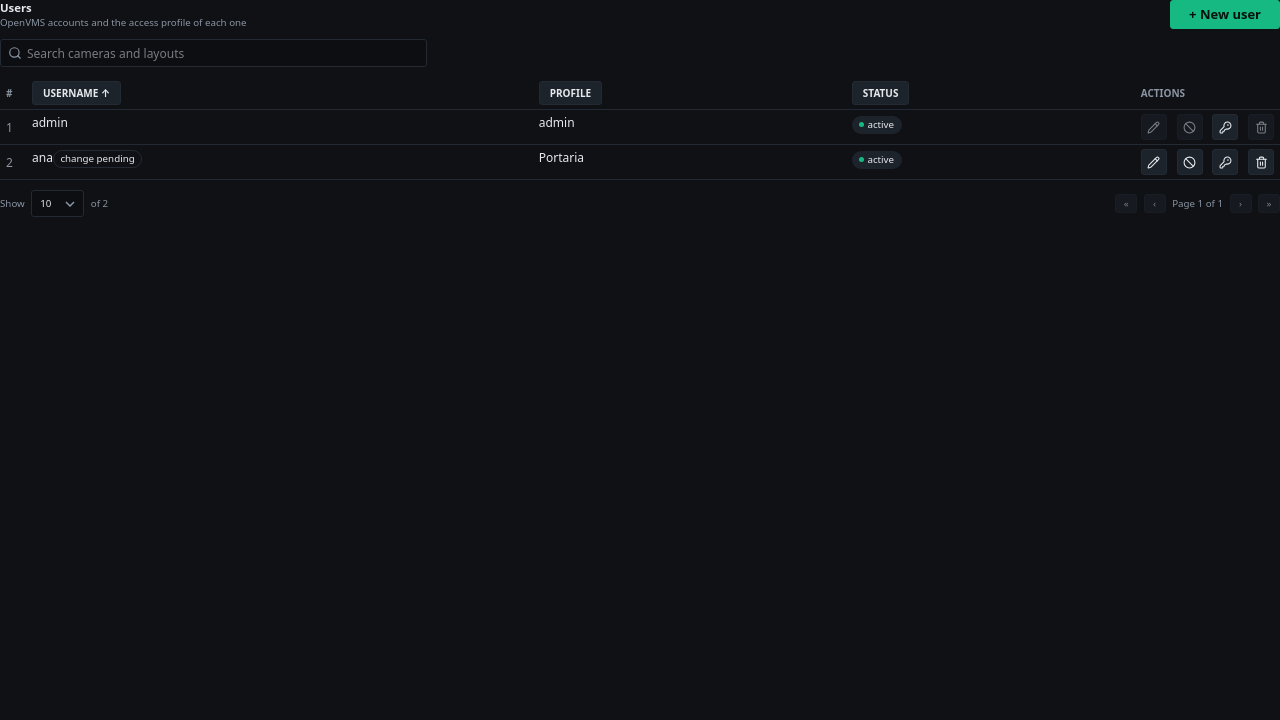
UsersTable (spec 2026-10-18 4.3; server-side since 2026-10-20 §5) › the server 400 shows up, without the client reimplementing the policy
Expected: the text "ana" is shown, left=32, top=149, right=53, bottom=166
Click the button "+ New user": (1225, 15) left=1170, top=0, right=1279, bottom=29
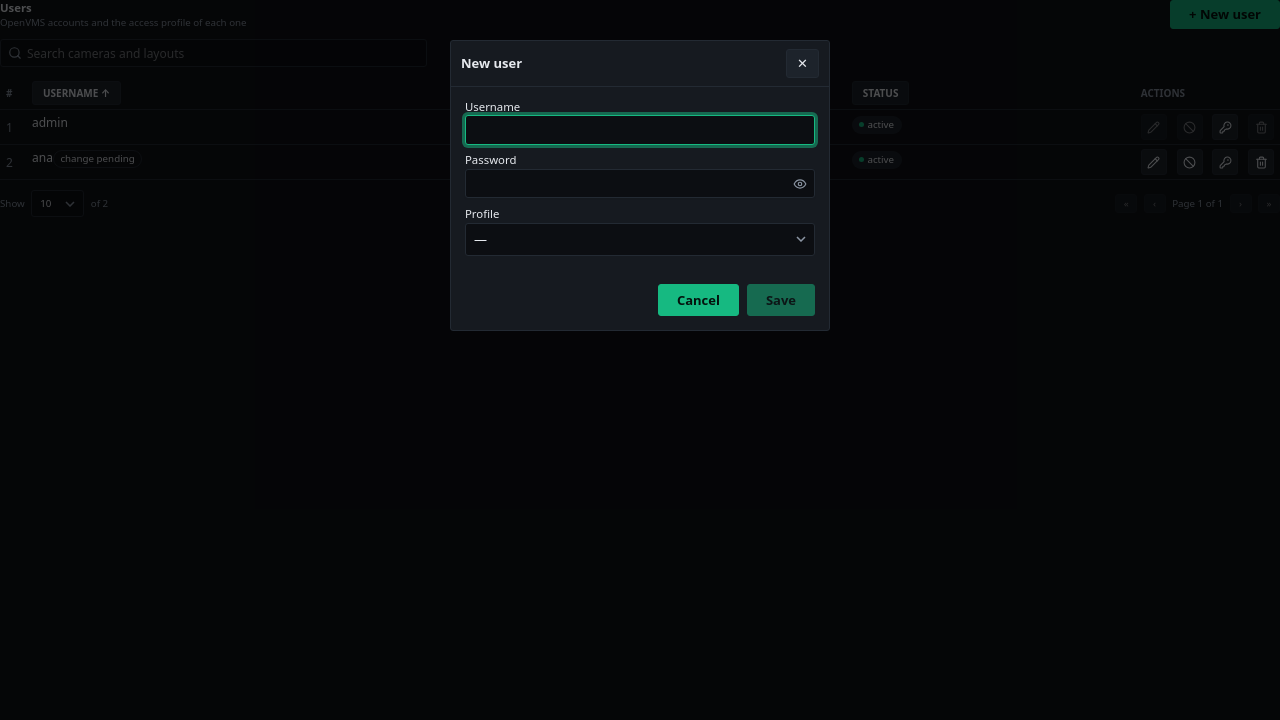
In the field labelled "Username": (640, 130) left=465, top=116, right=815, bottom=145, type "bia"
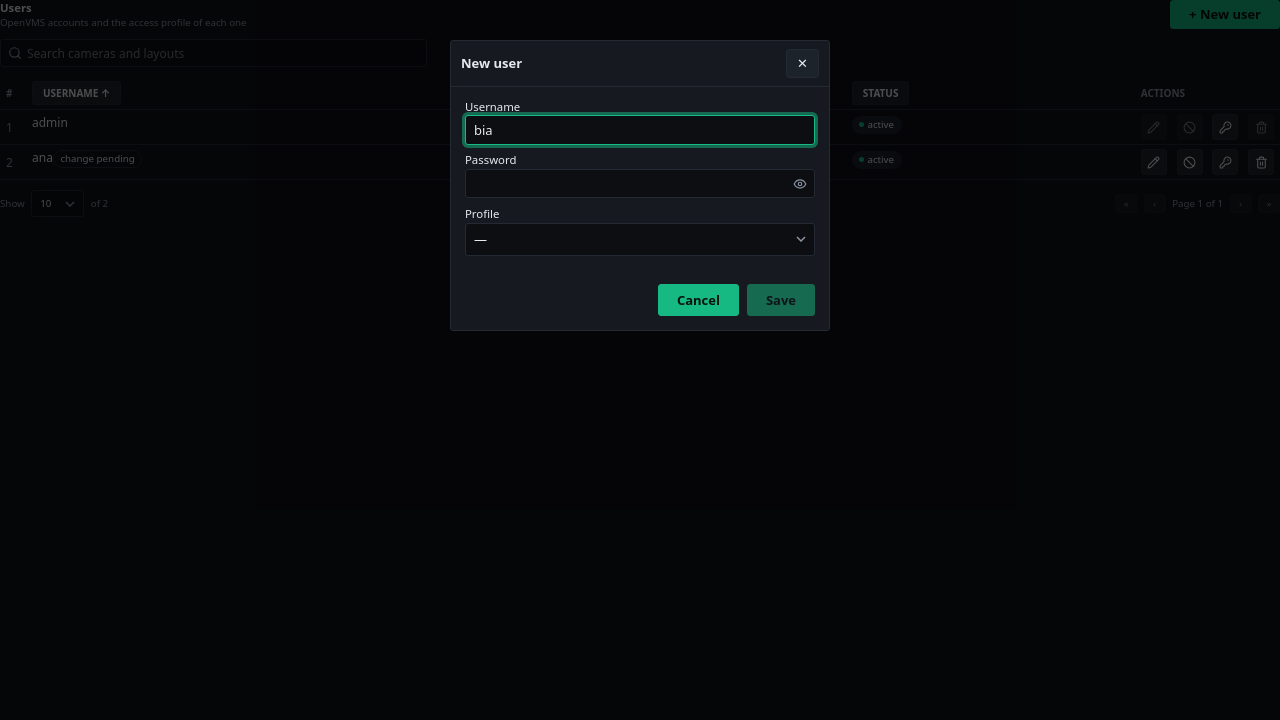
In the password field labelled "Password": (640, 184) left=465, top=169, right=815, bottom=198, type "short"
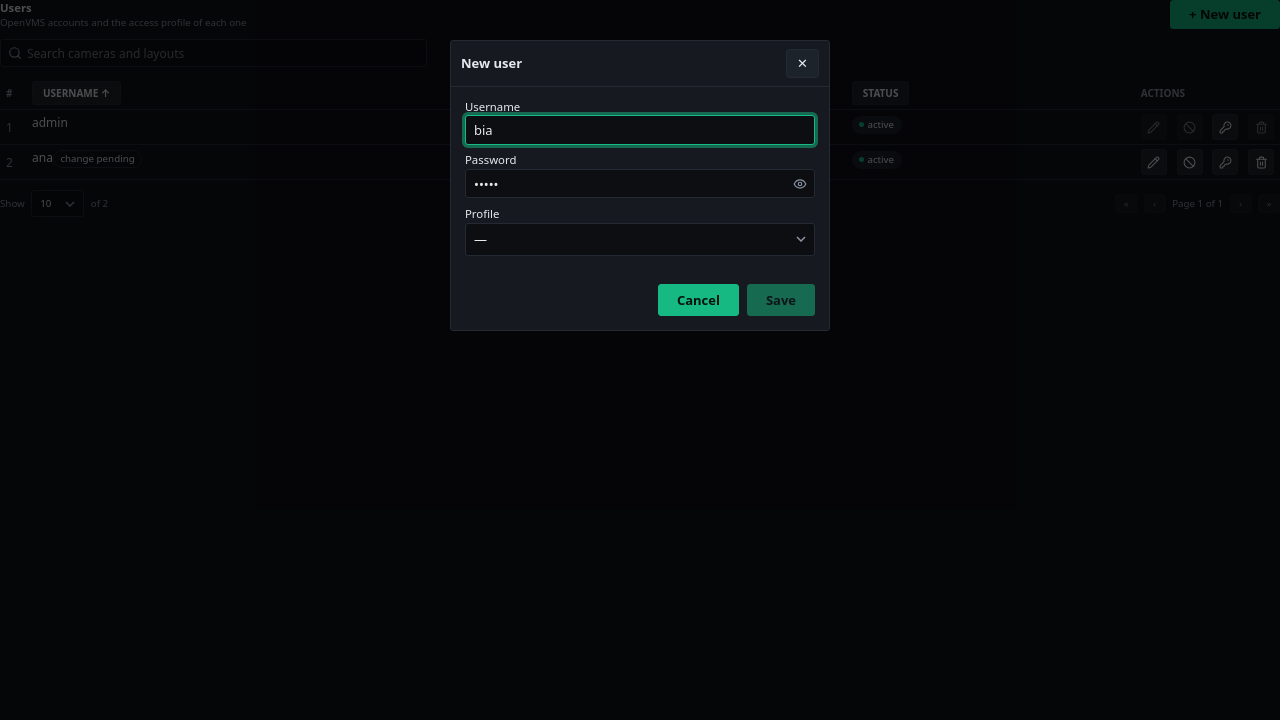
Select "Portaria" in the dropdown labelled "Profile": (640, 239) left=465, top=223, right=815, bottom=256
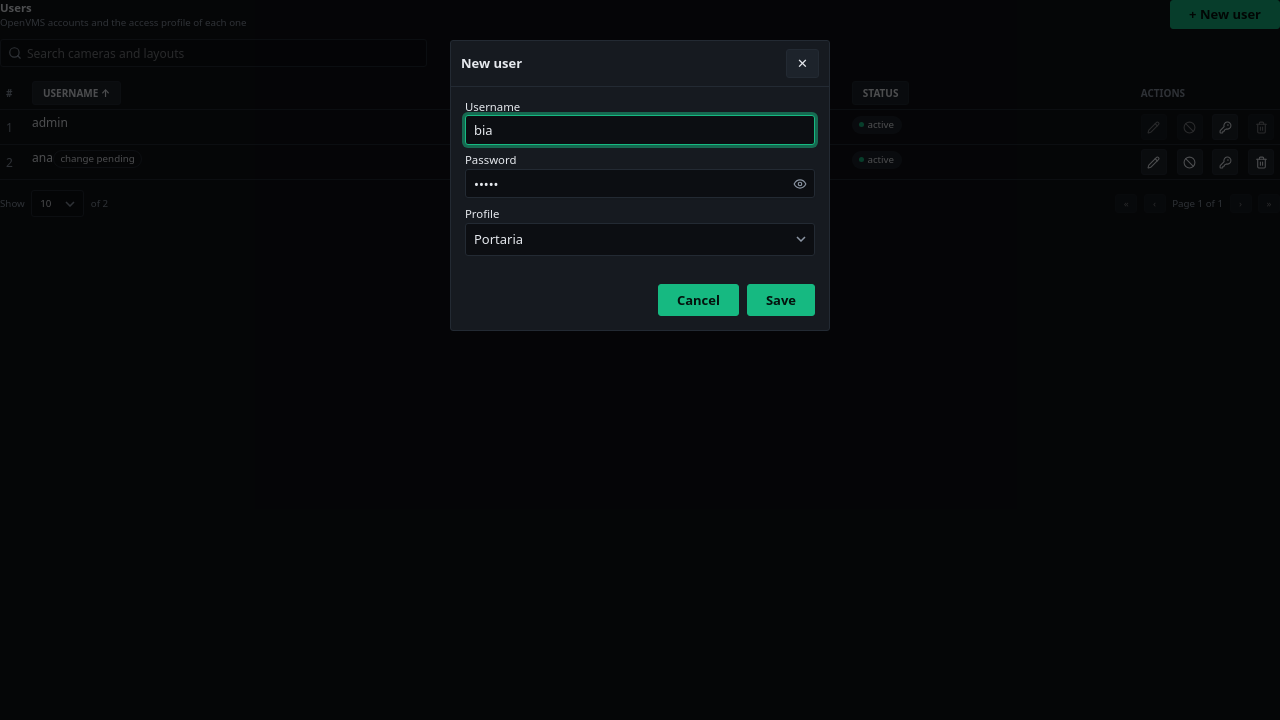
Click the button "Save": (781, 300) left=747, top=284, right=815, bottom=316
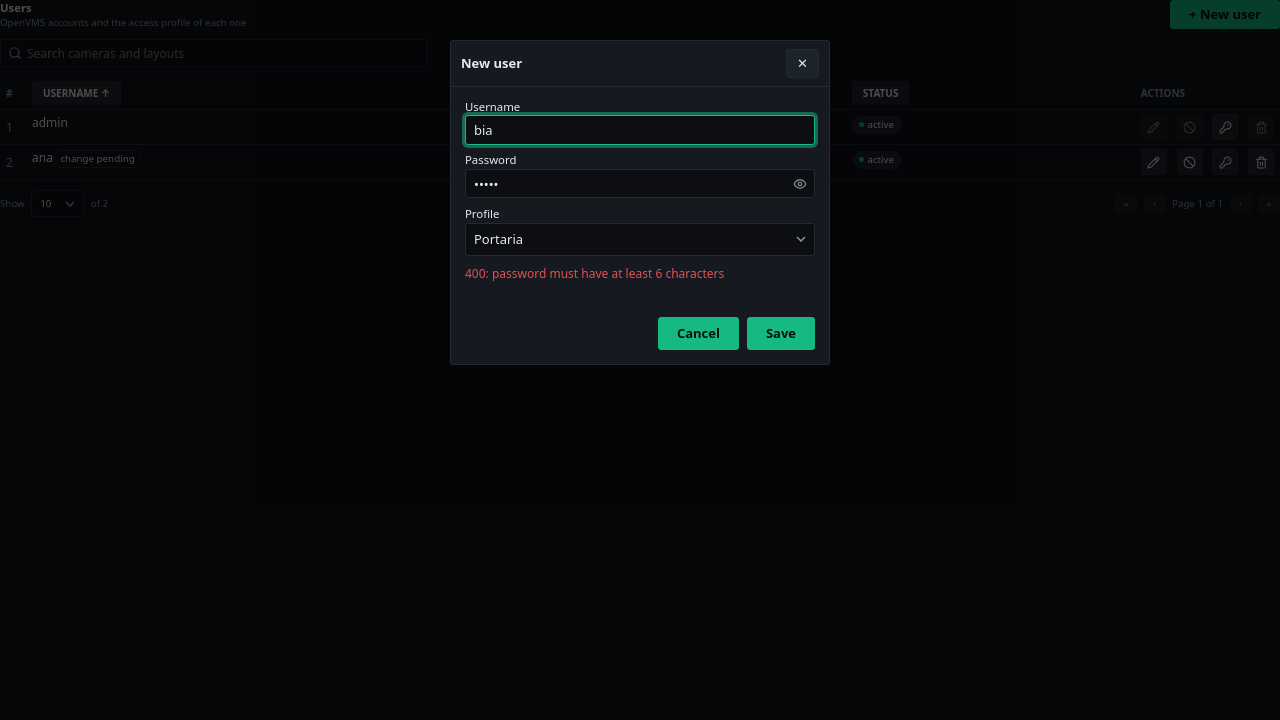
Expected: the dialog "New user" is shown, left=450, top=40, right=830, bottom=364
Expected: the text "400: password must have at least 6 characters" is shown, left=465, top=265, right=724, bottom=282
